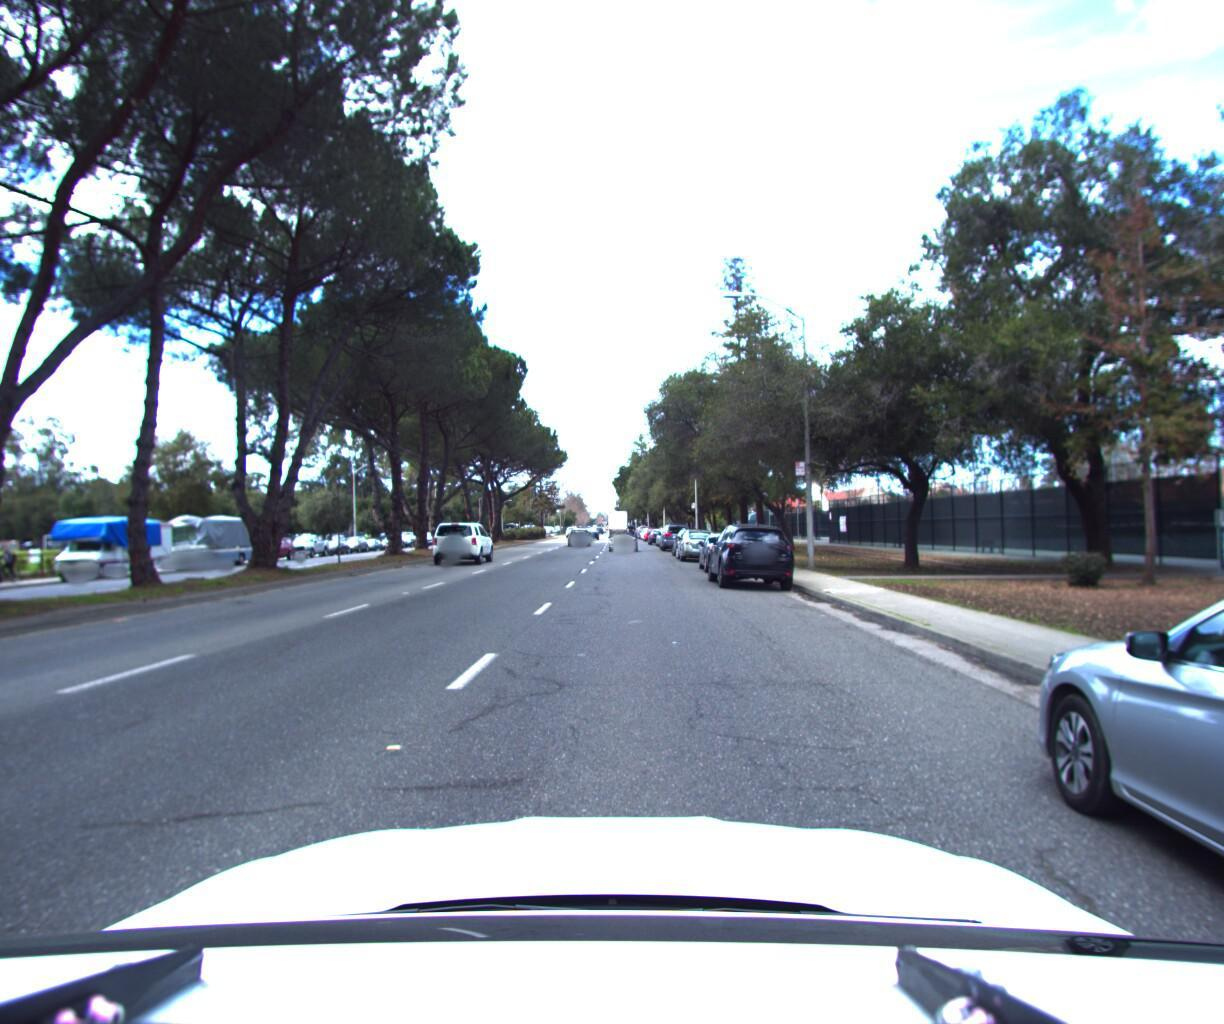car: (975, 537, 1224, 1024), (702, 519, 800, 589), (429, 521, 500, 568), (694, 530, 756, 576), (671, 528, 723, 562), (251, 537, 304, 566), (288, 537, 336, 562), (658, 523, 692, 554), (606, 525, 640, 553), (340, 537, 378, 558), (0, 558, 17, 604), (567, 527, 593, 547), (646, 529, 670, 548)
other_vehicle: (47, 515, 193, 585), (165, 514, 270, 576)
